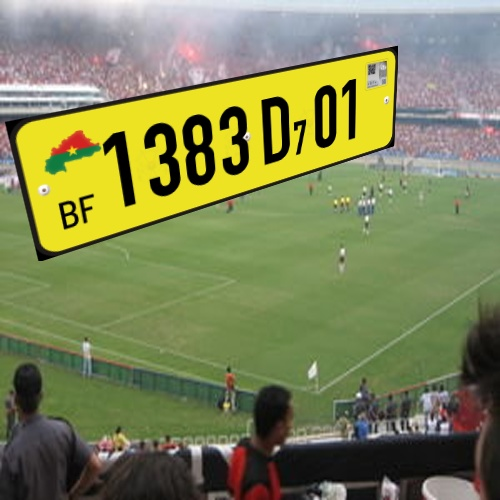plate: (7, 37, 420, 261)
